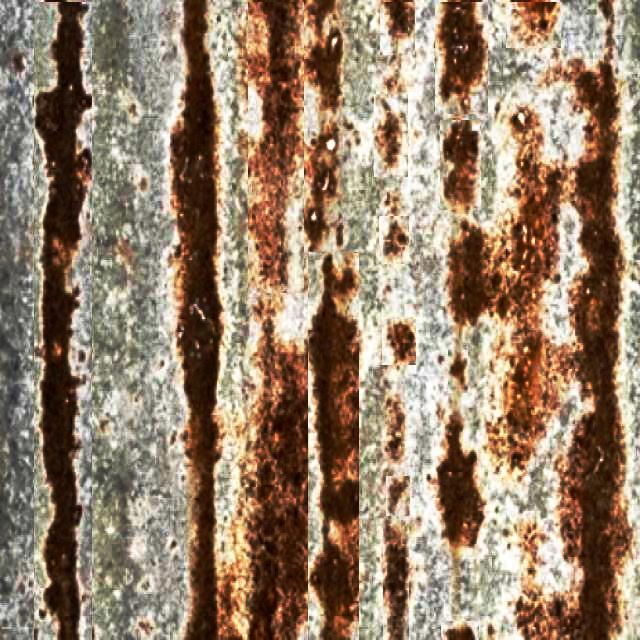Corrosion: (563, 61, 628, 640), (35, 1, 91, 640), (171, 0, 222, 640), (247, 322, 307, 640), (310, 260, 360, 640), (438, 417, 485, 546), (450, 221, 493, 324), (445, 120, 479, 206), (442, 4, 463, 96), (447, 627, 476, 640)
